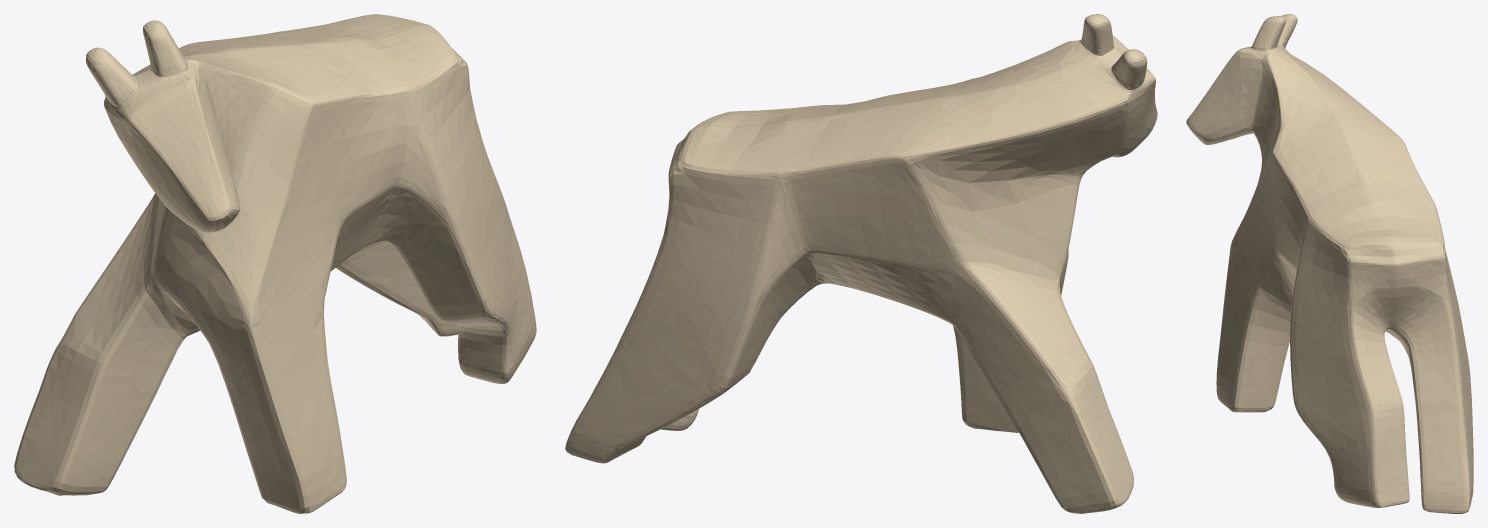
The model's file is sau-03.glb.
3 views of the same model, side by side, from view 1: azimuth 30°, elevation 25°; view 2: azimuth 150°, elevation 25°; view 3: azimuth 270°, elevation 25° (orthographic). The views are drawn at different scales.
Visible parts, largest first — view 1: sau-03; view 2: sau-03; view 3: sau-03.
Part boxes in pixels (x1,y1,x2,y2): sau-03: (14,14,536,513); sau-03: (565,14,1157,513); sau-03: (1186,14,1473,513).
Bounding box in the file's own units: 0.9995 × 0.8872 × 0.6597.
